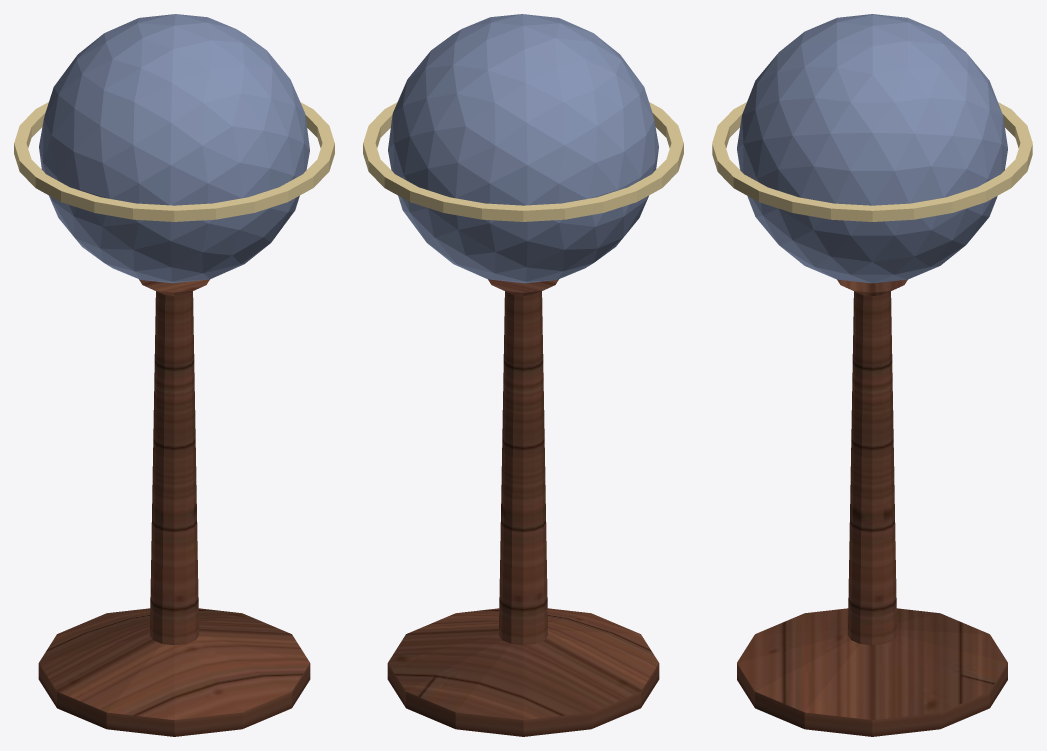
File: globe.glb
3 views of the same model, side by side, from view 1: azimuth 30°, elevation 25°; view 2: azimuth 150°, elevation 25°; view 3: azimuth 270°, elevation 25° (orthographic).
Visible parts, largest first — view 1: globe_rug2, globe_dkwood, globe_brass; view 2: globe_rug2, globe_dkwood, globe_brass; view 3: globe_rug2, globe_dkwood, globe_brass.
Boxes of the visible parts, x1,y1,x2,y2 form: globe_rug2: [39, 14, 309, 283]; globe_dkwood: [38, 279, 310, 736]; globe_brass: [14, 102, 334, 221]; globe_rug2: [388, 14, 658, 283]; globe_dkwood: [387, 279, 659, 736]; globe_brass: [363, 102, 683, 221]; globe_rug2: [737, 14, 1007, 283]; globe_dkwood: [737, 279, 1007, 736]; globe_brass: [712, 102, 1032, 221].
Size of the model in its own units: 0.52 by 1.17 by 0.52.
Materials: 3 (1 with a texture image).
